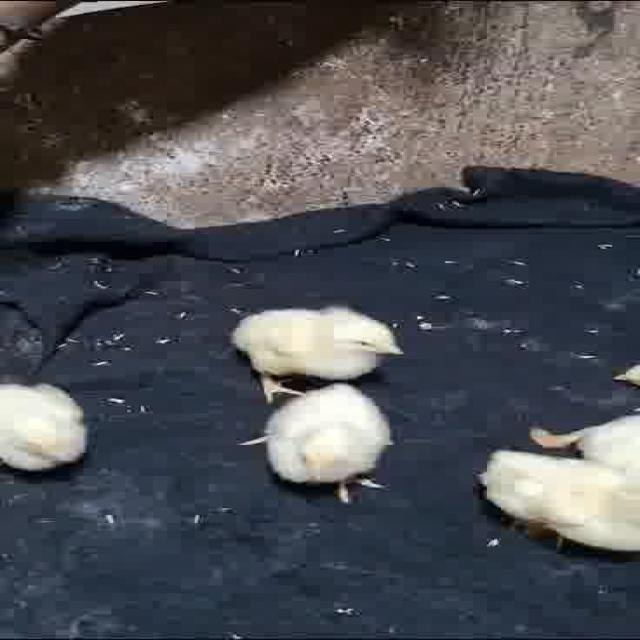poussin: (469, 439, 640, 570), (258, 382, 401, 502), (226, 308, 408, 395), (0, 379, 100, 477)
